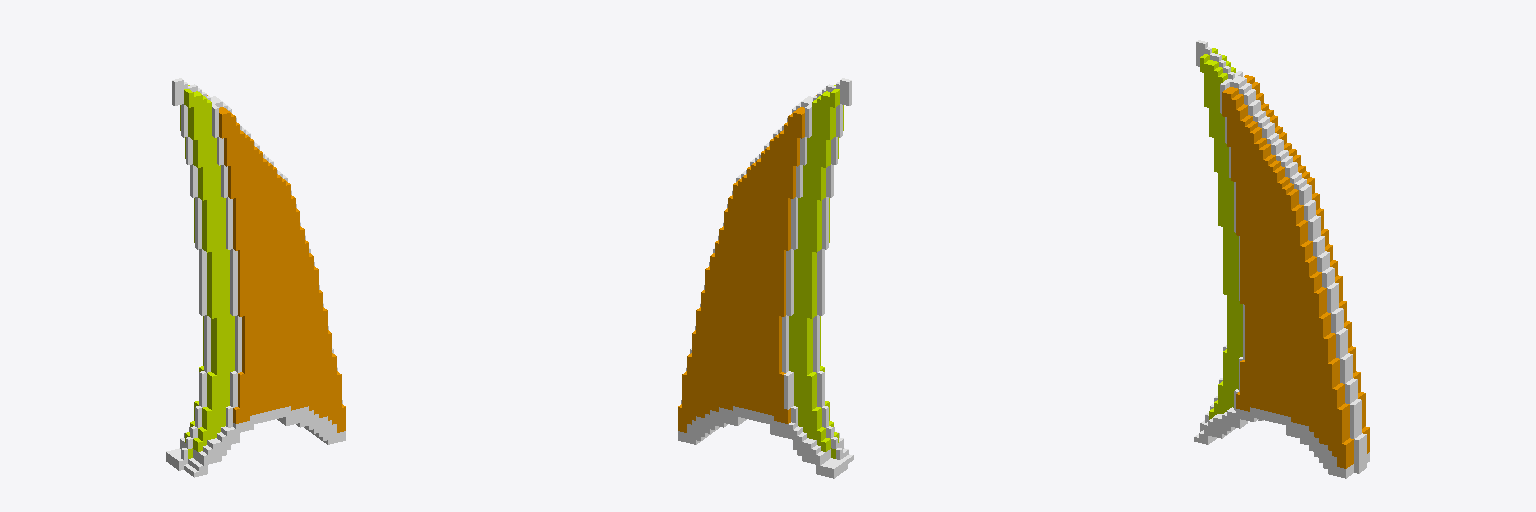
The picture shows the model from 3 angles: view 1: azimuth 30°, elevation 25°; view 2: azimuth 150°, elevation 25°; view 3: azimuth 330°, elevation 25°; orthographic projection.
Bounding box in the file's own units: 36 × 81 × 9.
1 materials, 1 textured.